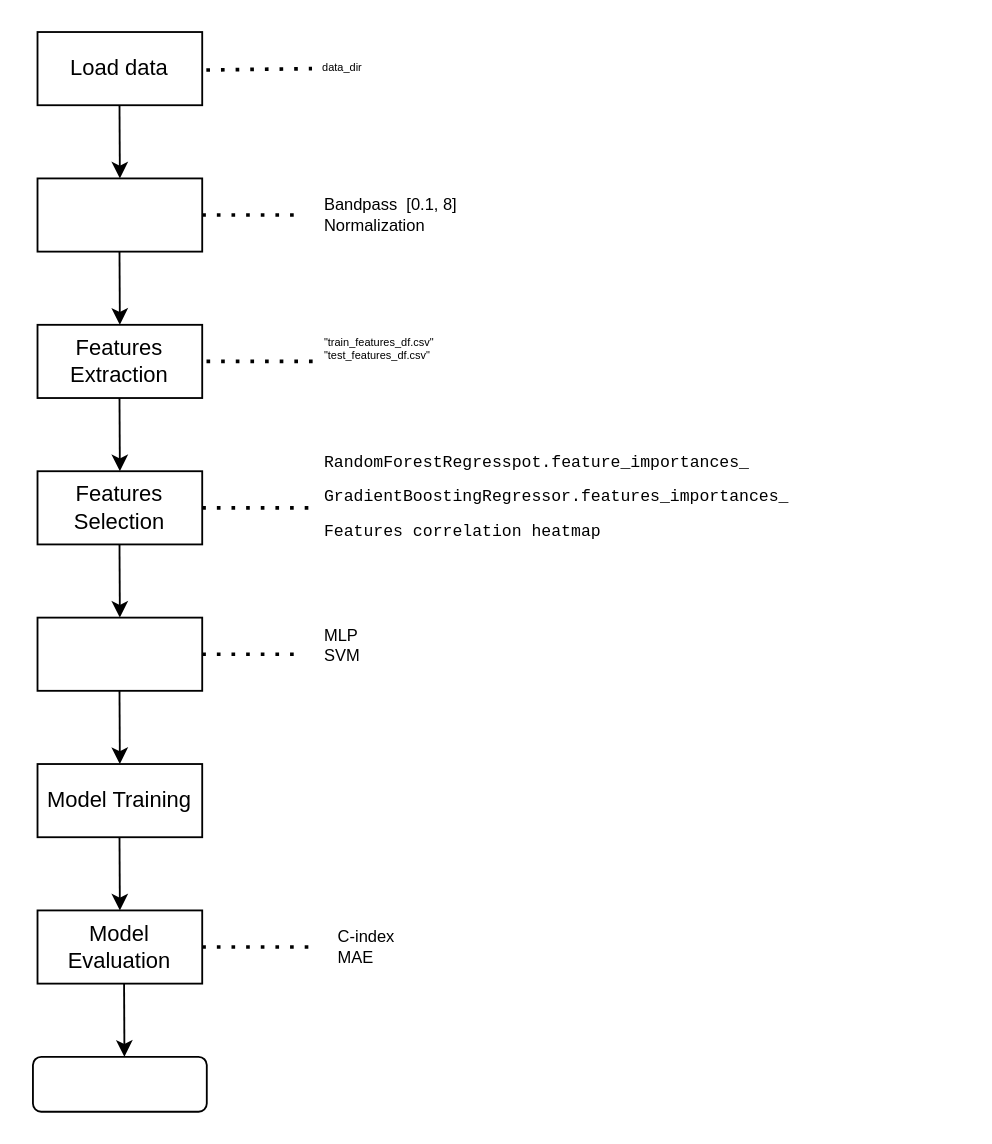
Image size: 992x1144. Some labels were removed from this diagram. The shapes that lost their labels are listed below. From the top down, each one's centre as x and y in pixels, then its label:
the point at 119,214: PPG Preprocess
the point at 119,653: Model Selection
the point at 119,1083: Conclusion
